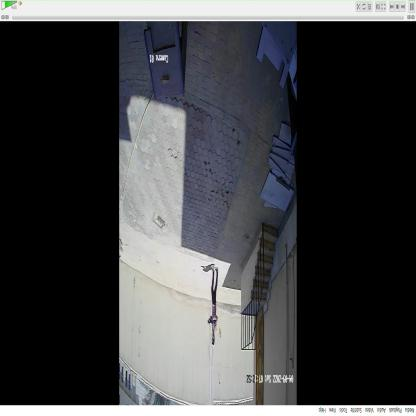handgun: (204, 310, 219, 330)
